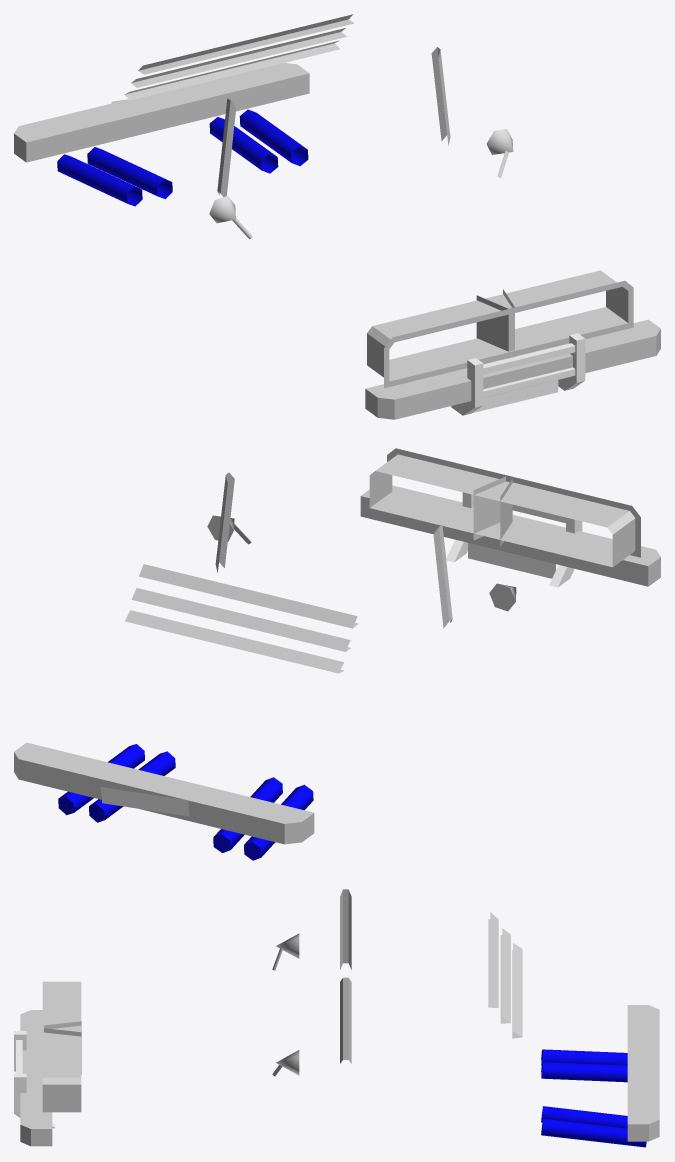
Rendered from Car2Body2.fbx.
The picture shows the model from 3 angles, top to bottom: view 1: azimuth 30°, elevation 25°; view 2: azimuth 150°, elevation 25°; view 3: azimuth 270°, elevation 25°; orthographic projection. The views are drawn at different scales.
Parts seen in each view (by area): view 1: Car2Body2; view 2: Car2Body2; view 3: Car2Body2.
Boxes of the visible parts, x1,y1,x2,y2 form: Car2Body2: (14,14,660,419); Car2Body2: (14,448,660,860); Car2Body2: (14,889,659,1147).
Bounding box in the file's own units: 2.64 × 1.7 × 5.66.
